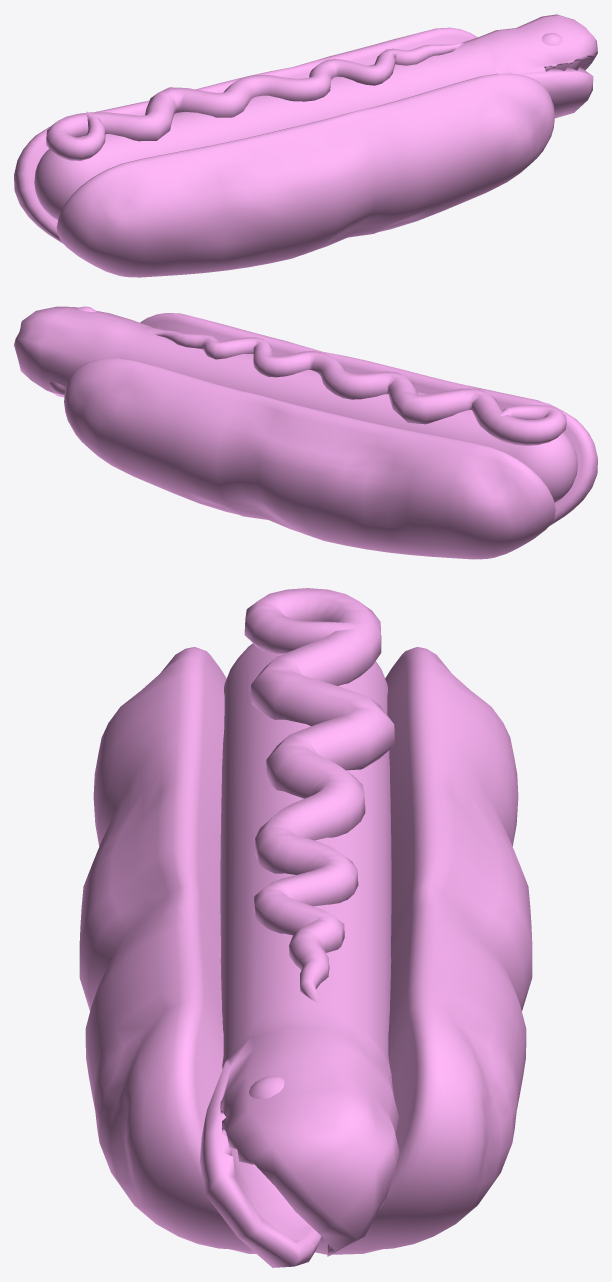
File: LemDog.fbx
3 renders of one model, top to bottom at view 1: azimuth 30°, elevation 25°; view 2: azimuth 150°, elevation 25°; view 3: azimuth 270°, elevation 25°, orthographic. The views are drawn at different scales.
Visible parts, largest first — view 1: LemDog; view 2: LemDog; view 3: LemDog.
Part boxes in pixels (x1,y1,x2,y2): LemDog: (14, 14, 597, 277); LemDog: (14, 306, 597, 559); LemDog: (79, 588, 532, 1267).
Size of the model in its own units: 0.9781 by 0.2785 by 0.3503.
